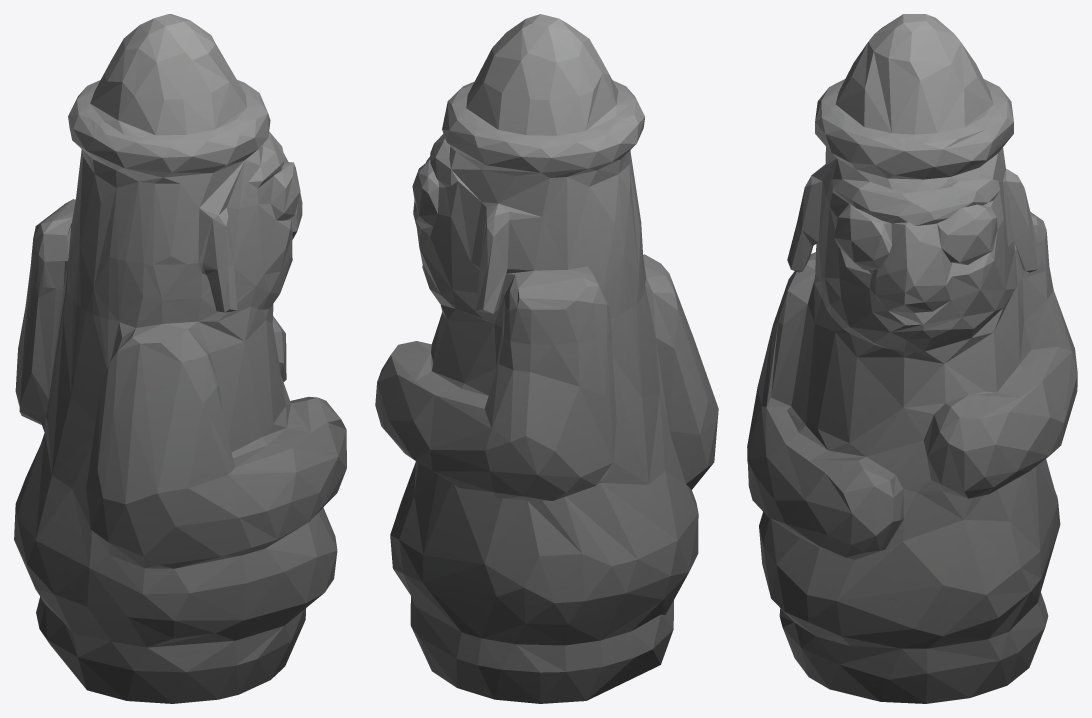
The model's file is Dolhareubang.fbx.
3 views of the same model, side by side, from view 1: azimuth 30°, elevation 25°; view 2: azimuth 150°, elevation 25°; view 3: azimuth 270°, elevation 25° (orthographic).
Parts seen in each view (by area): view 1: Dolhareubang; view 2: Dolhareubang; view 3: Dolhareubang.
Boxes of the visible parts, x1,y1,x2,y2 form: Dolhareubang: [14, 14, 346, 703]; Dolhareubang: [375, 14, 718, 703]; Dolhareubang: [747, 14, 1077, 703].
Size of the model in its own units: 111 by 239 by 113.
1 material, 1 textured.
